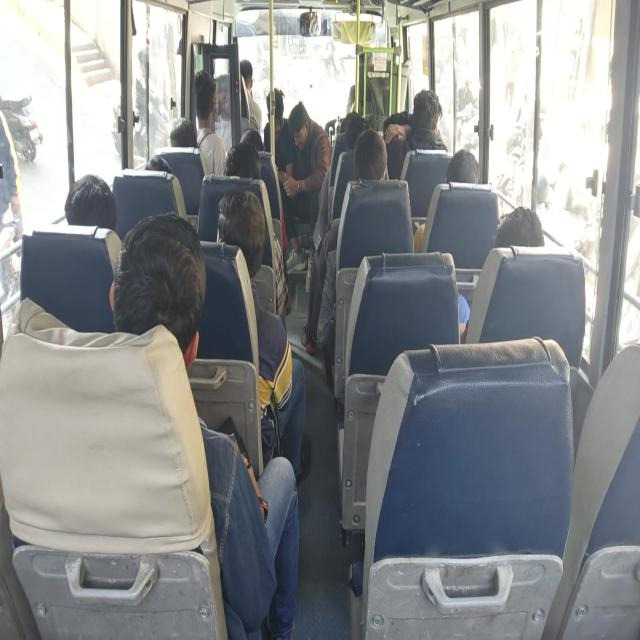person: (122, 231, 189, 330), (213, 181, 273, 269), (63, 170, 121, 240), (212, 145, 268, 192), (492, 214, 542, 262), (359, 133, 395, 192), (452, 155, 488, 204), (192, 62, 220, 123), (414, 94, 443, 140), (165, 116, 196, 152), (339, 108, 361, 154), (146, 152, 171, 183), (291, 103, 305, 149), (264, 90, 279, 128), (239, 55, 255, 89), (353, 40, 370, 72)
